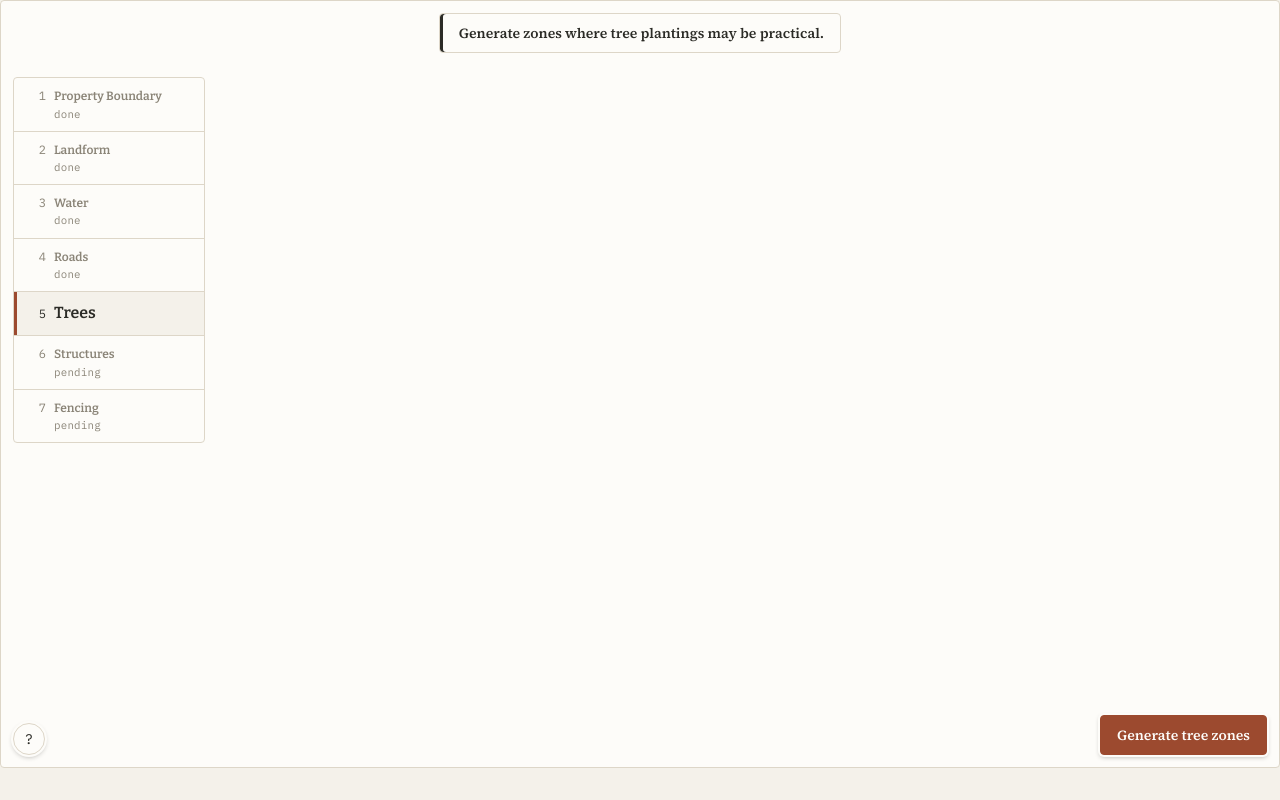
Test case: 1. the trees entry registers one card › opens by itself on "Generate tree zones", through the shipped shell and registry
Click the button "Generate tree zones" at (1184,735), box [1100,715,1267,755]
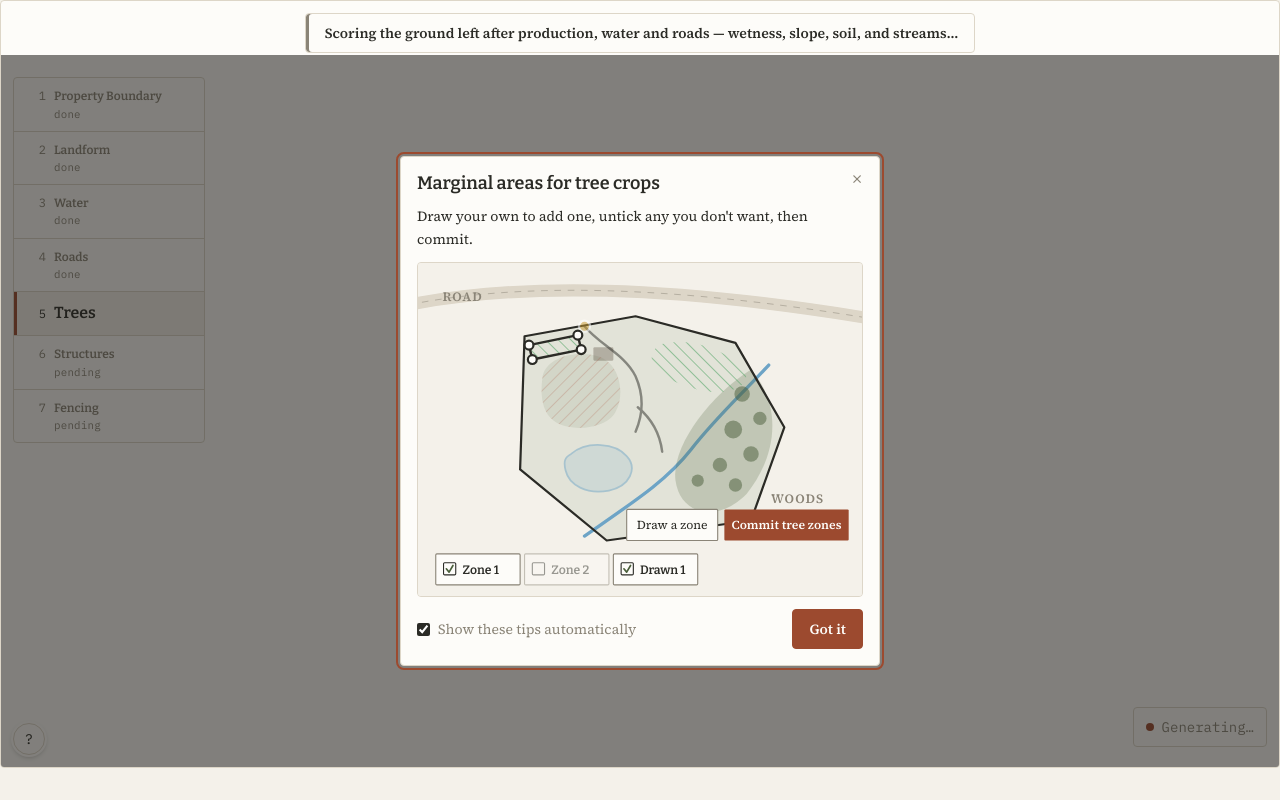
Check: the heading "Marginal areas for tree crops" is shown, box [417,172,660,194]
Check: the picture with class "tutorial-anim--trees" is shown, box [418,263,862,596]
